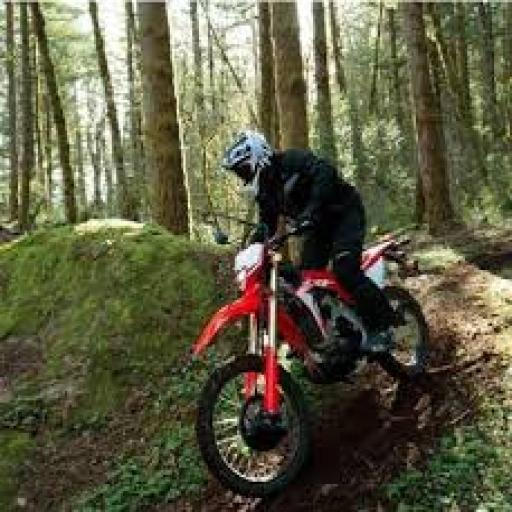helmet: (184, 216, 432, 496), (219, 126, 403, 354)
